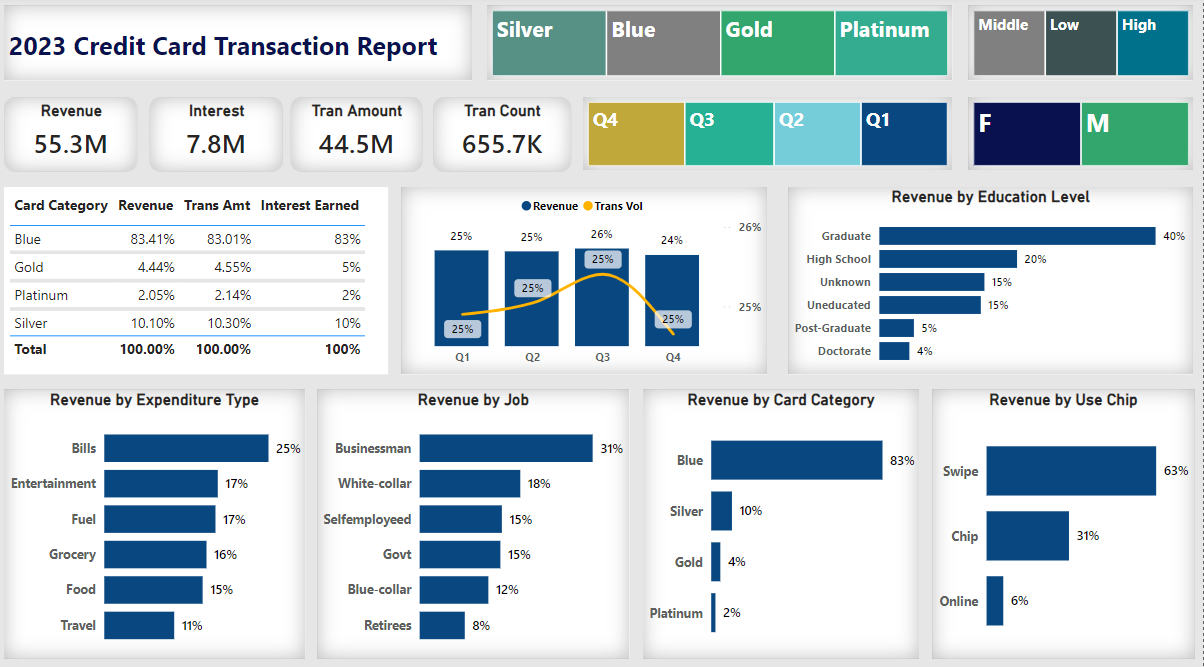

This screenshot's page, from the dashboard's own definition file:
{"tool":"powerbi","page":{"name":"Transaction report","canvas":[1280,720],"ordinal":1},"visuals":[{"type":"textbox","box":[9.5,11.1,496.3,79.5],"z":0},{"type":"lineStackedColumnComboChart","title":"Revenue and Total Trans Count","fields":{"Category":["credit_card.Qtr"],"Y2":["Sum(credit_card.Total_Trans_Vol)"],"Y":["Calcs customers.Revenue"]},"box":[430.9,204.1,387.4,198.4],"z":1000},{"type":"barChart","title":"Revenue by Expenditure Type","fields":{"Category":["credit_card.Exp Type"],"Y":["Calcs customers.Revenue"]},"box":[9.4,417.6,319.4,285.4],"z":2000},{"type":"barChart","title":"Revenue by Education Level","fields":{"Category":["customer.Education_Level"],"Y":["Calcs customers.Revenue"]},"box":[841,204.1,429,198.4],"z":3000},{"type":"barChart","title":"Revenue by Job","fields":{"Category":["customer.Customer_Job"],"Y":["Calcs customers.Revenue"]},"box":[342,417.6,330.7,285.4],"z":4000},{"type":"barChart","title":"Revenue by Card Category","fields":{"Category":["credit_card.Card_Category"],"Y":["Calcs customers.Revenue"]},"box":[687.9,417.6,292.9,285.4],"z":5000},{"type":"barChart","title":"Revenue by Use Chip","fields":{"Category":["credit_card.Use Chip"],"Y":["Calcs customers.Revenue"]},"box":[994,417.6,277.8,285.4],"z":6000},{"type":"tableEx","fields":{"Values":["credit_card.Card_Category","Calcs customers.Revenue","Sum(credit_card.Total_Trans_Amt)","Sum(credit_card.Interest_Earned)"]},"box":[9.5,203.6,407.2,198.8],"z":7000},{"type":"card","title":"Revenue","fields":{"Values":["Calcs customers.Revenue"]},"box":[9.5,108.2,141.6,79.5],"z":8000},{"type":"card","title":"Tran Amount","fields":{"Values":["Sum(credit_card.Total_Trans_Amt)"]},"box":[313.4,108.2,140,79.5],"z":9000},{"type":"card","title":"Interest","fields":{"Values":["Sum(credit_card.Interest_Earned)"]},"box":[163.8,108.2,141.6,79.5],"z":10000},{"type":"card","title":"Tran Count","fields":{"Values":["Sum(credit_card.Total_Trans_Vol)"]},"box":[464.5,108.2,146.3,79.5],"z":11000},{"type":"treemap","fields":{"Group":["credit_card.Qtr"],"Values":["Avg(credit_card.Client_Num)"]},"box":[623.6,107.7,391.2,77.5],"z":13000},{"type":"treemap","fields":{"Group":["customer.Gender"],"Values":["Avg(credit_card.Client_Num)"]},"box":[1031.8,107.7,238.1,77.5],"z":14000},{"type":"treemap","fields":{"Group":["credit_card.Card_Category"],"Values":["Avg(credit_card.Client_Num)"]},"box":[521.6,11.3,493.2,79.4],"z":15000},{"type":"treemap","fields":{"Values":["Avg(credit_card.Client_Num)"],"Group":["customer.Income (groups)"]},"box":[1031.8,11.3,238.1,79.4],"z":16000}]}

Visuals, with their boxes in screenshot pixels (x1, y1, x2, y2), scaled from the page's 1280x720 canvas onto the 1204x667 screenshot:
textbox: [9,10,476,84]
"Revenue and Total Trans Count" lineStackedColumnComboChart: [405,189,770,373]
"Revenue by Expenditure Type" barChart: [9,387,309,651]
"Revenue by Education Level" barChart: [791,189,1195,373]
"Revenue by Job" barChart: [322,387,633,651]
"Revenue by Card Category" barChart: [647,387,923,651]
"Revenue by Use Chip" barChart: [935,387,1196,651]
tableEx - credit_card.Card_Category x Calcs customers.Revenue: [9,189,392,373]
"Revenue" card: [9,100,142,174]
"Tran Amount" card: [295,100,426,174]
"Interest" card: [154,100,287,174]
"Tran Count" card: [437,100,575,174]
treemap - credit_card.Qtr x Avg(credit_card.Client_Num): [587,100,955,172]
treemap - customer.Gender x Avg(credit_card.Client_Num): [971,100,1194,172]
treemap - credit_card.Card_Category x Avg(credit_card.Client_Num): [491,10,955,84]
treemap - Avg(credit_card.Client_Num) x customer.Income (groups): [971,10,1194,84]
